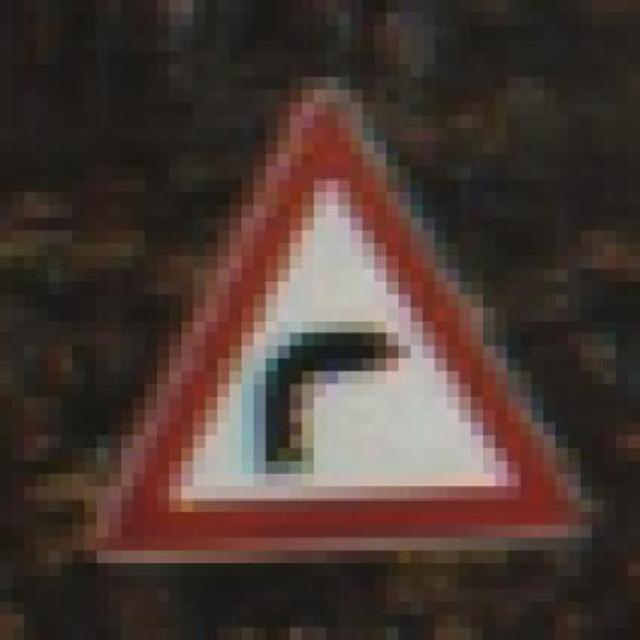Dangerous Rright Curve Ahead: (72, 77, 592, 563)
